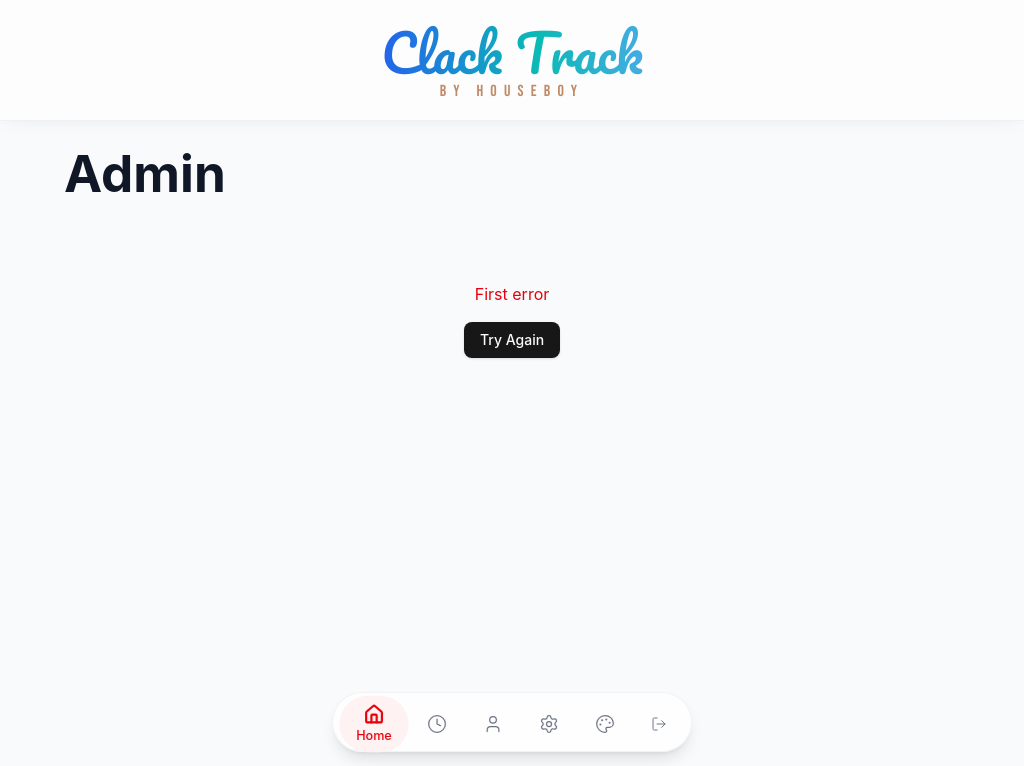
Test: Admin Page › Error State › should retry fetching when try again is clicked
Note: Click retry
Click the button "Try Again".
click(512, 340)  # box [464, 322, 560, 358]
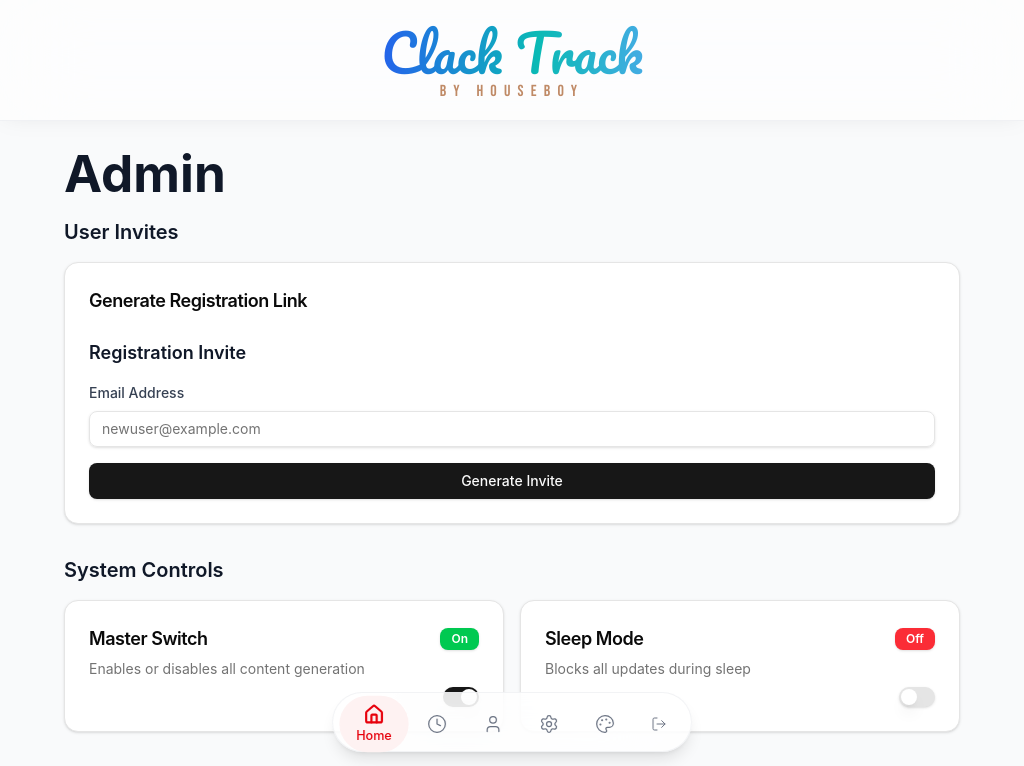
Check: the heading "Master Switch" is shown, box [89, 625, 208, 653]
